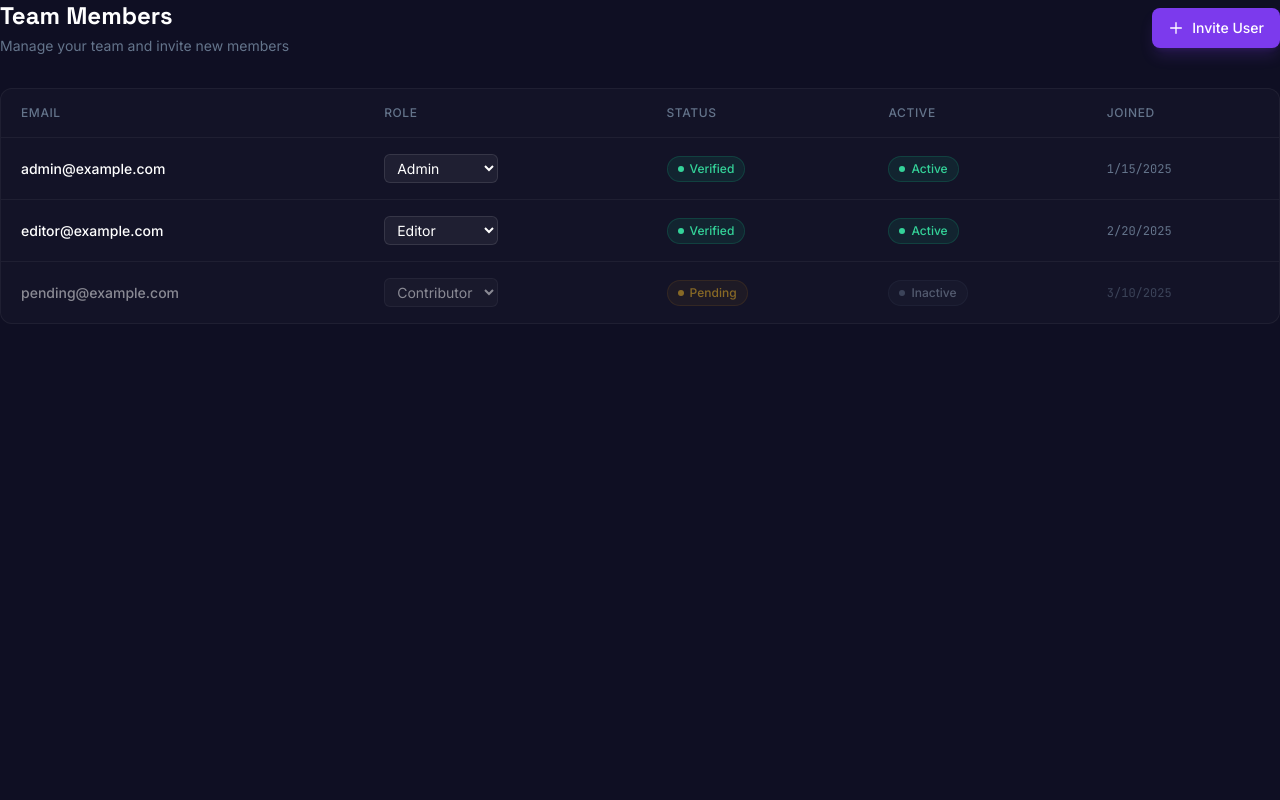
Scenario: AdminUsersView › opens invite modal when clicking Invite User button
This screenshot has width=1280, height=800.
Step 1. Click the button "Invite User" → click(1216, 28), box x1=1152 y1=8 x2=1279 y2=48
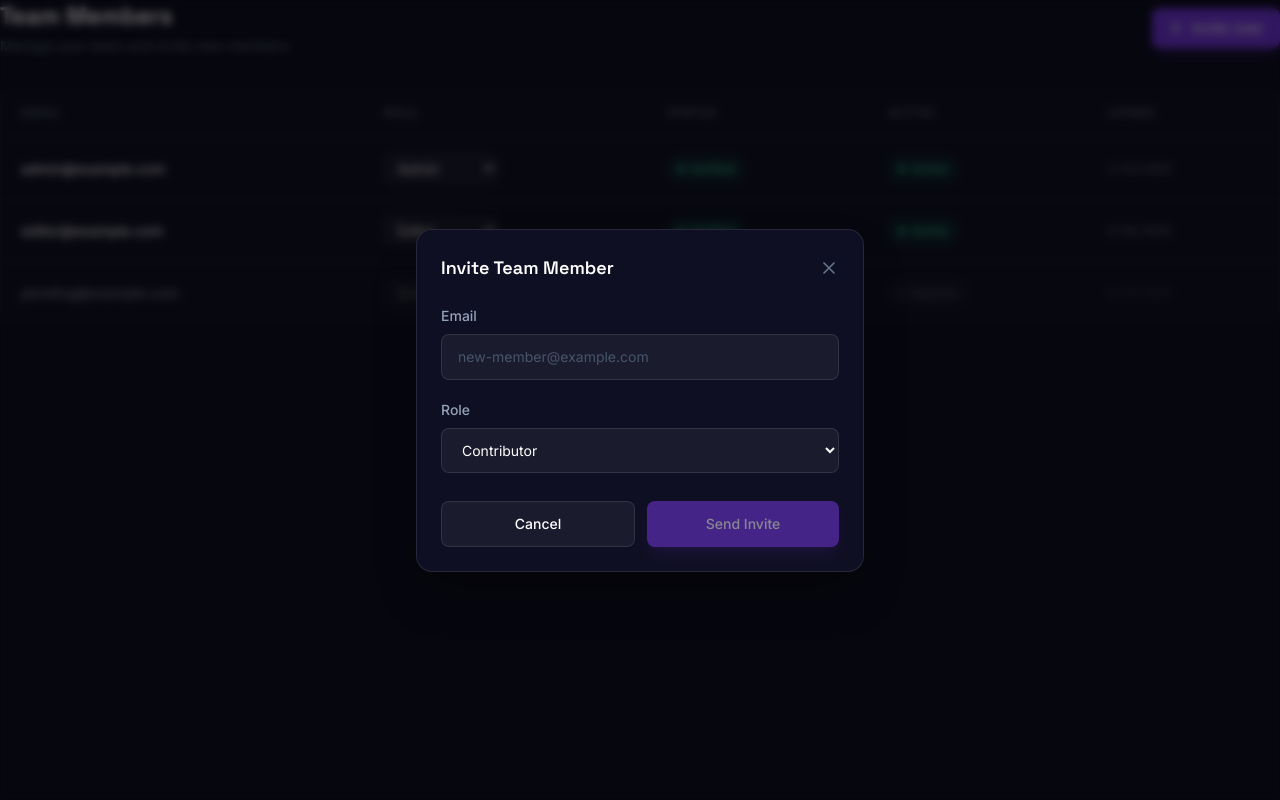
Now the text "Invite Team Member" is shown, box x1=441 y1=254 x2=614 y2=282
Now the field with placeholder "new-member@example.com" is shown, box x1=441 y1=334 x2=839 y2=380
